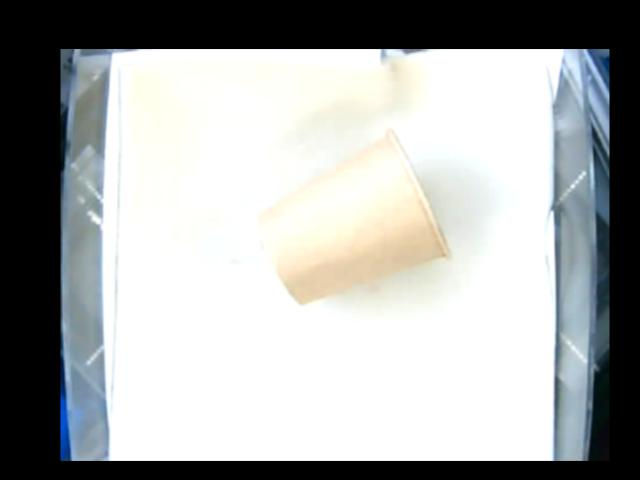Cup: (255, 129, 452, 302)
